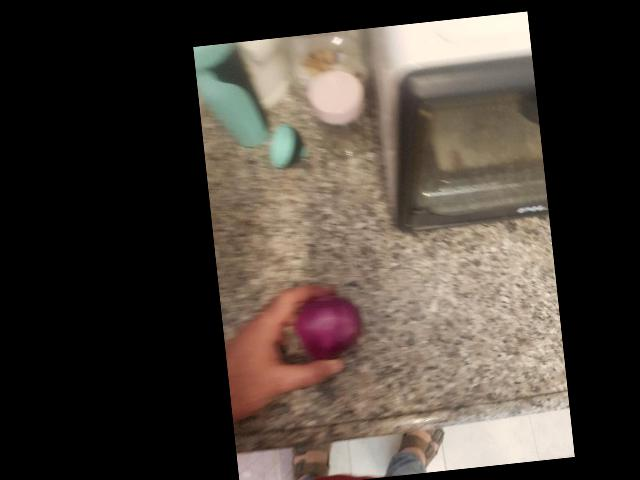onion: (474, 215, 553, 289)
